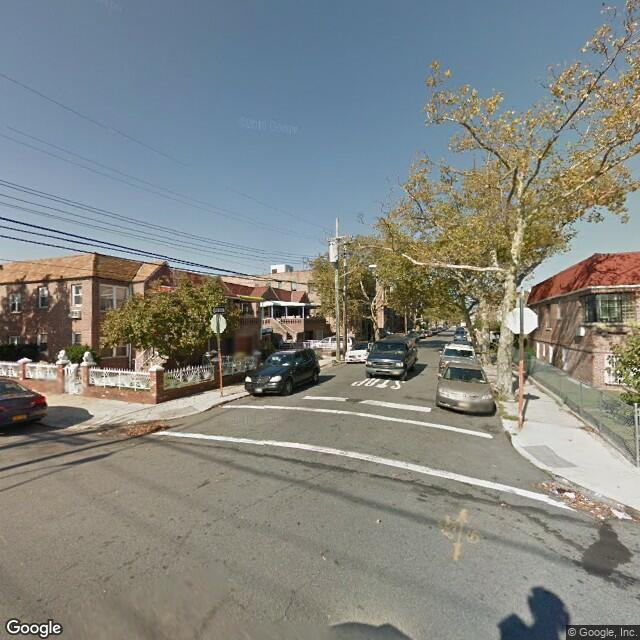litter: (550, 486, 575, 502), (611, 506, 632, 521), (372, 516, 386, 525), (80, 423, 95, 431), (95, 431, 103, 436)
